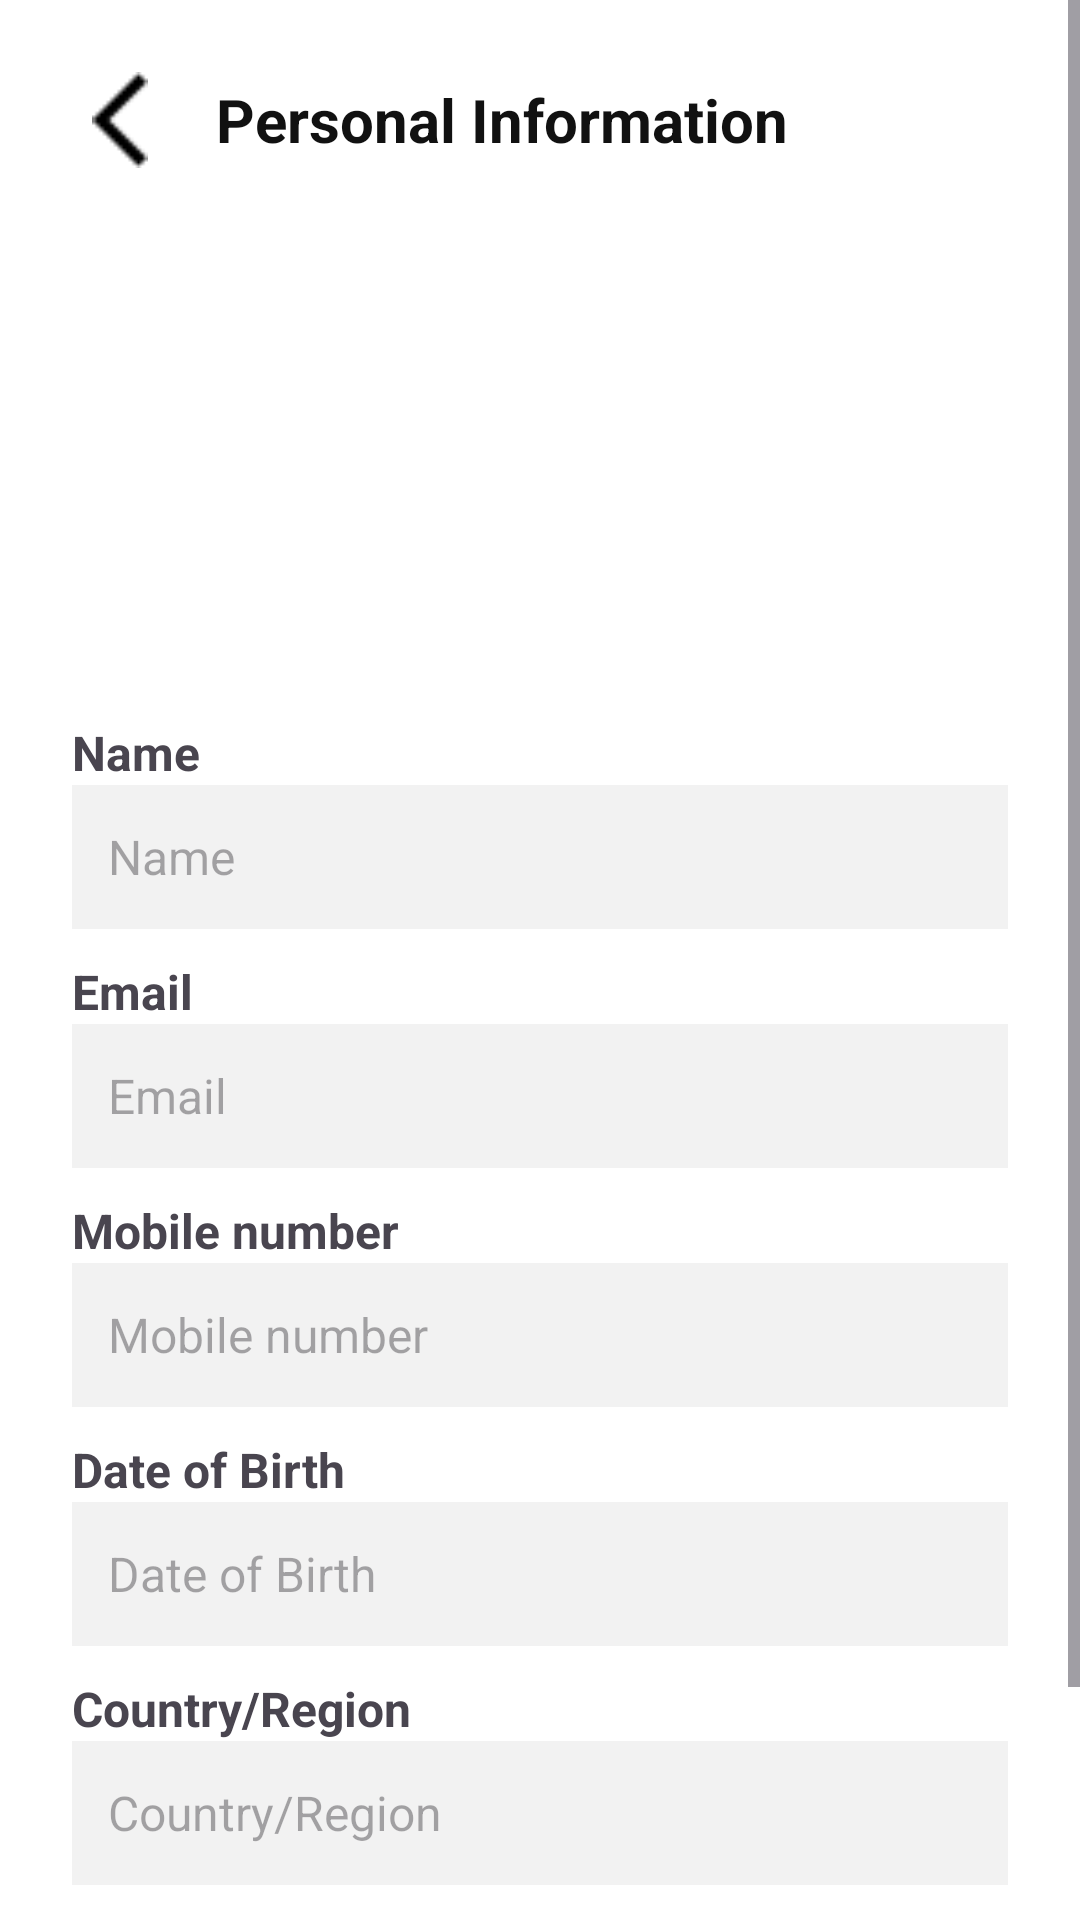

Named icons in this screenshot (1080w x 1920h) and their bounding boxes, rect(x1, y1, x2, y2):
Back: rect(92, 72, 148, 168)
